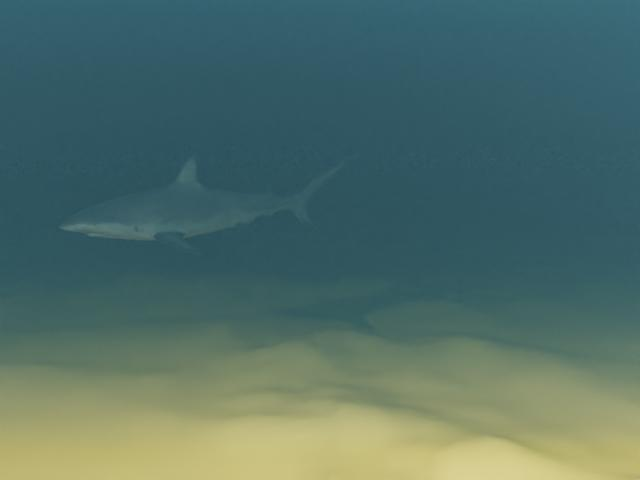Carribean Shark.001: (58, 153, 355, 255)
